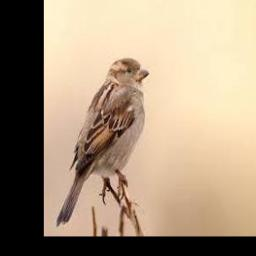Sparrow: (56, 59, 150, 226)
